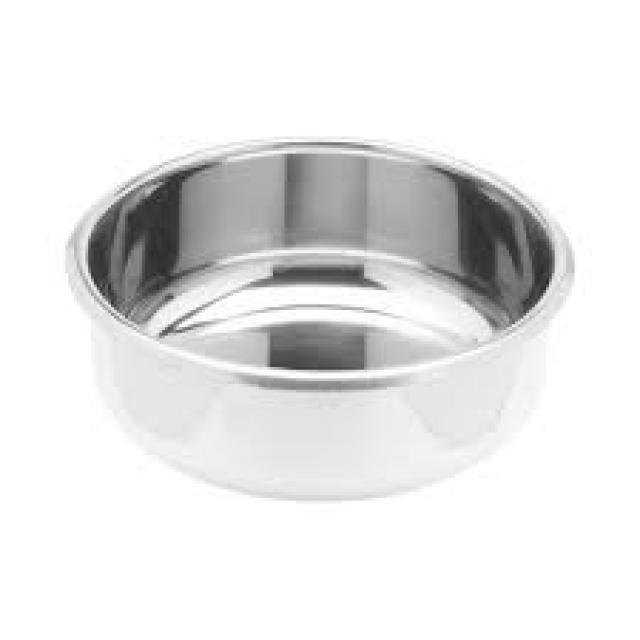Sponge Bowl: (66, 128, 584, 507)
